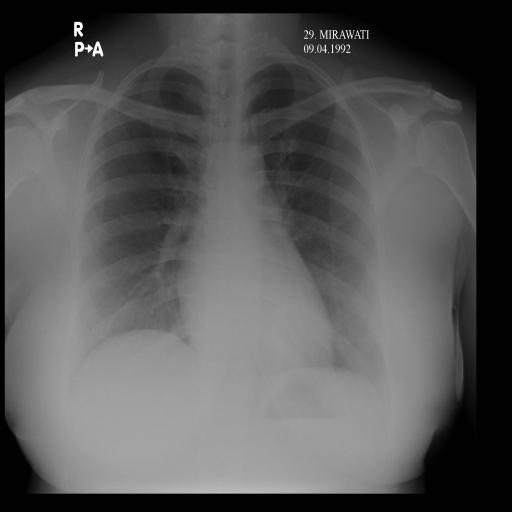normal: (52, 28, 393, 426)
